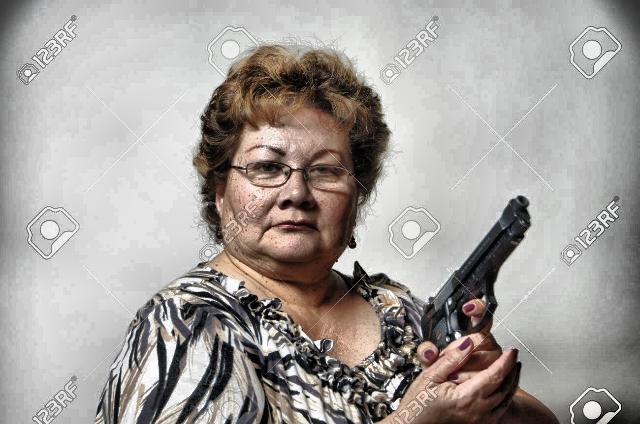pistol: (417, 192, 535, 372)
